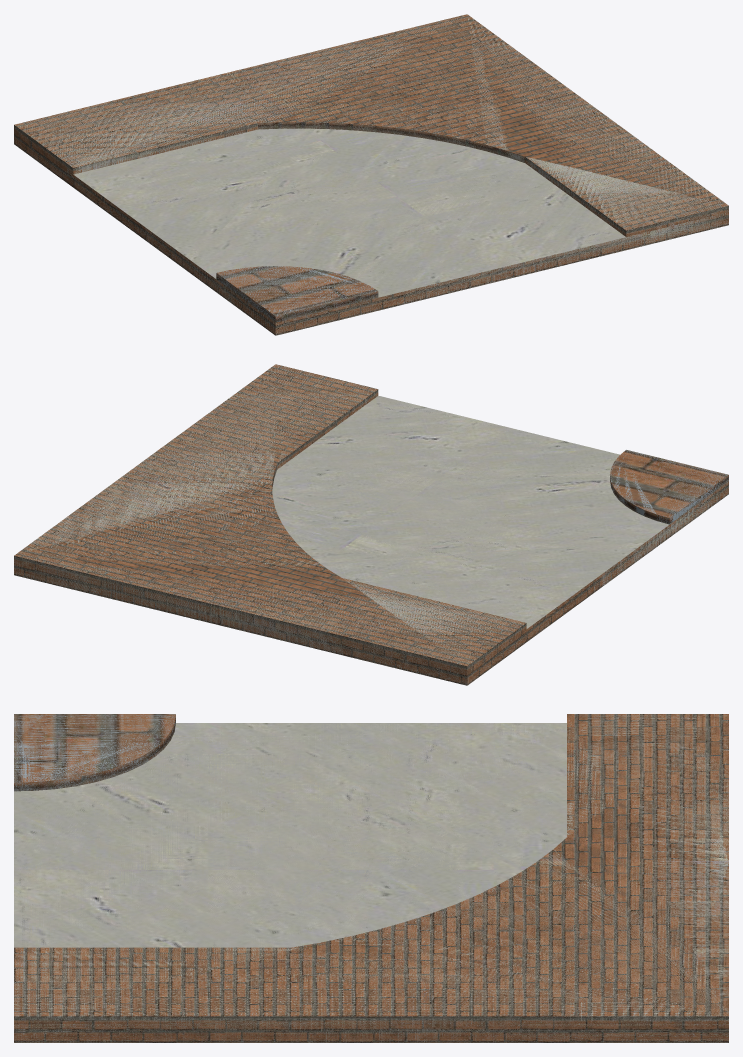
Rendered from roadAngle.fbx.
The picture shows the model from 3 angles, top to bottom: view 1: azimuth 30°, elevation 25°; view 2: azimuth 150°, elevation 25°; view 3: azimuth 270°, elevation 25°; orthographic projection. The views are drawn at different scales.
Visible parts, largest first — view 1: Group1, Group2; view 2: Group1, Group2; view 3: Group1, Group2.
Boxes of the visible parts, x1,y1,x2,y2 form: Group1: (14, 14, 728, 335); Group2: (216, 266, 378, 322); Group1: (14, 364, 728, 685); Group2: (610, 449, 728, 524); Group1: (14, 714, 728, 1042); Group2: (14, 714, 175, 791).
Size of the model in its own units: 48.43 by 1.99 by 48.43.
